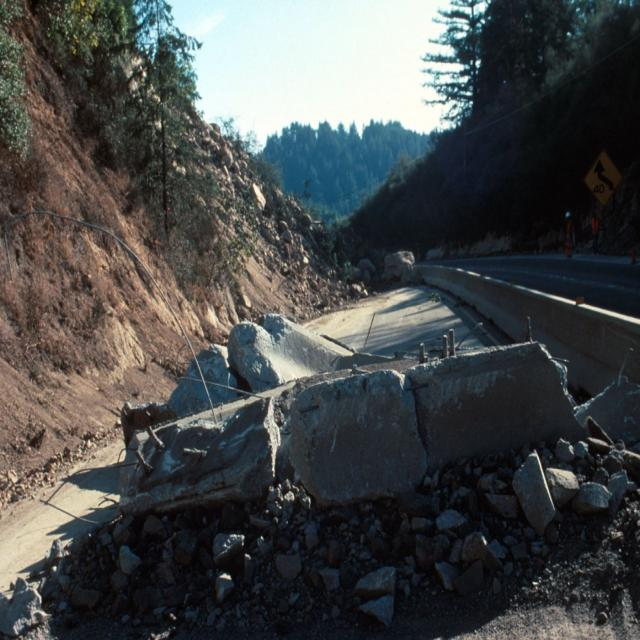landSliding: (42, 228, 631, 607)
